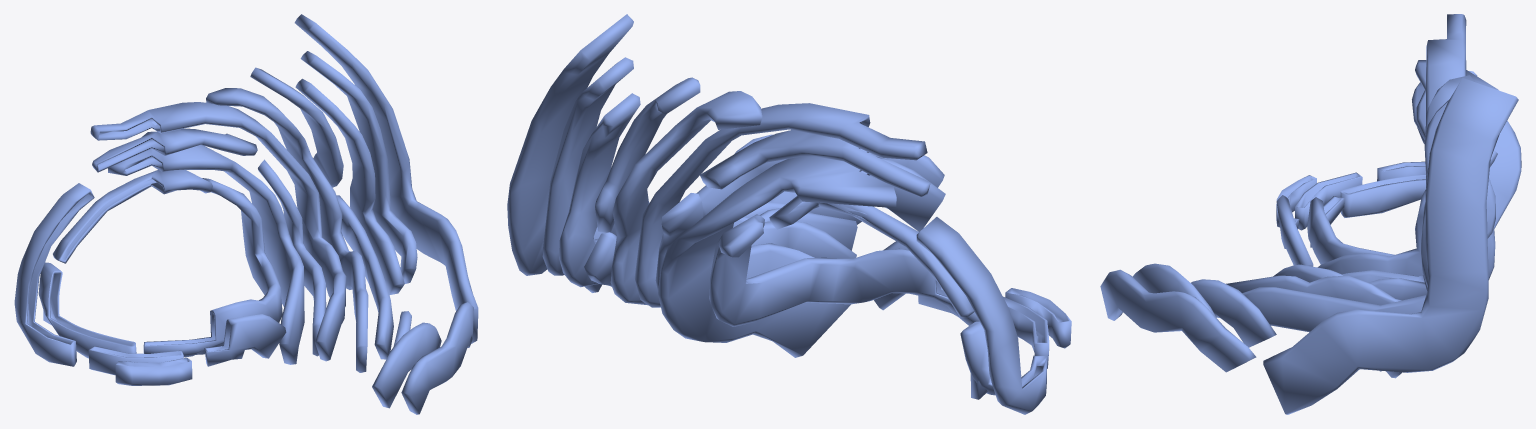
The model's file is roughER.glb.
3 renders of one model, left to right at view 1: azimuth 30°, elevation 25°; view 2: azimuth 150°, elevation 25°; view 3: azimuth 270°, elevation 25°, orthographic. The views are drawn at different scales.
Parts seen in each view (by area): view 1: Rough ER; view 2: Rough ER; view 3: Rough ER.
Boxes of the visible parts, bbox=[...] form: Rough ER: bbox=[14, 14, 478, 414]; Rough ER: bbox=[507, 14, 1071, 414]; Rough ER: bbox=[1100, 14, 1521, 414].
Size of the model in its own units: 11.23 by 7.85 by 9.84.
